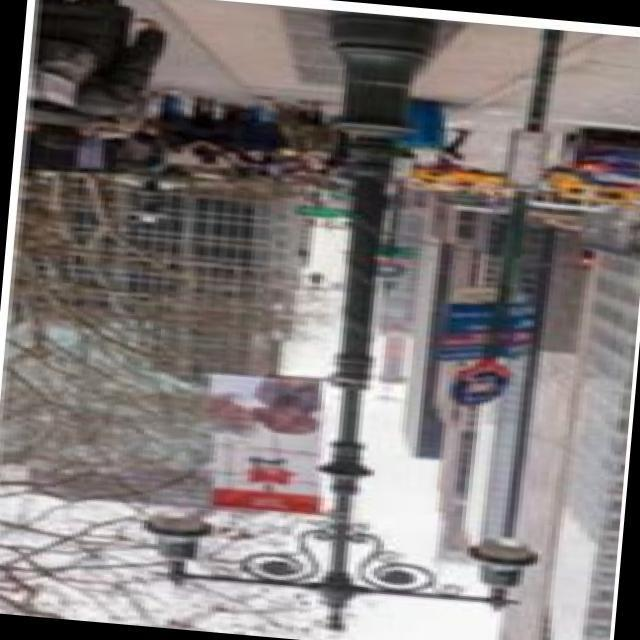off: (117, 485, 240, 606), (398, 533, 590, 606)
